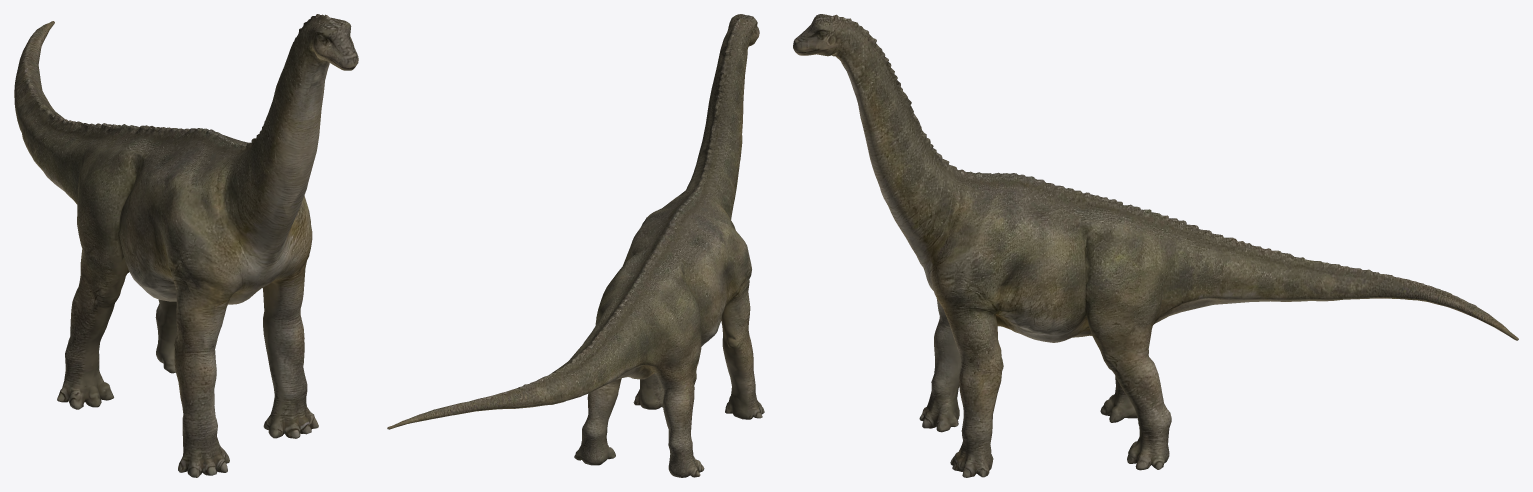
The model's file is braquiosaurio.glb.
3 views of the same model, side by side, from view 1: azimuth 30°, elevation 25°; view 2: azimuth 150°, elevation 25°; view 3: azimuth 270°, elevation 25° (orthographic). The views are drawn at different scales.
Parts seen in each view (by area): view 1: dino; view 2: dino; view 3: dino.
Part boxes in pixels (box(x1,y1,x2,y2)): dino: box(14, 14, 358, 477); dino: box(387, 14, 764, 477); dino: box(793, 14, 1518, 477).
Size of the model in its own units: 6.71 by 14.59 by 22.
Materials: 1 (1 with a texture image).
